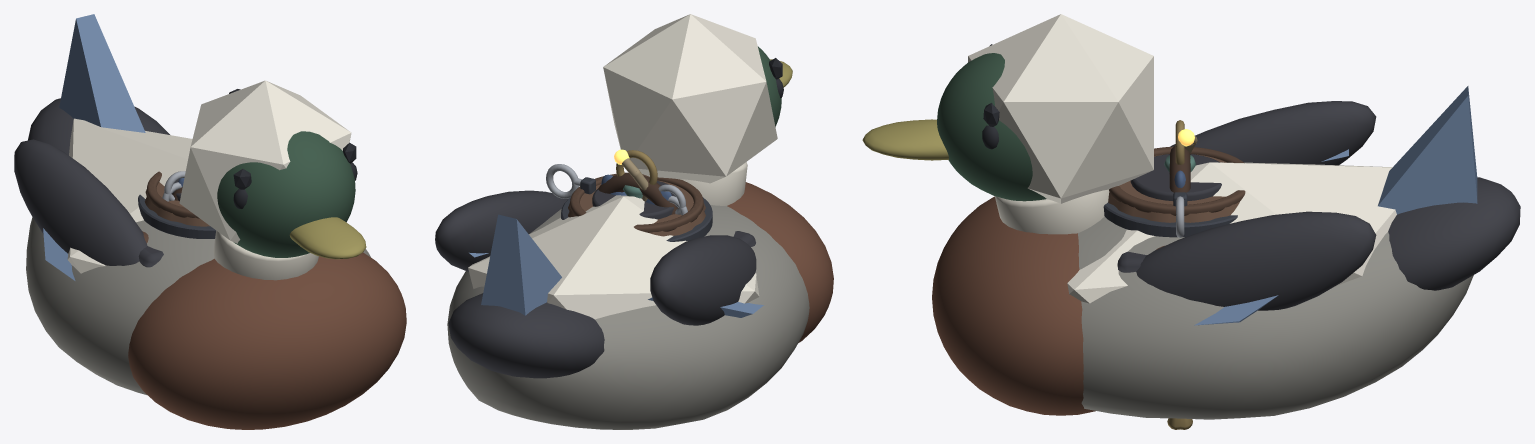
Rendered from skins_v1.glb.
The picture shows the model from 3 angles, left to right: view 1: azimuth 30°, elevation 25°; view 2: azimuth 150°, elevation 25°; view 3: azimuth 270°, elevation 25°; orthographic projection. The views are drawn at different scales.
Visible parts, largest first — view 1: duck@decoy_breast__p6c4b3c, duck@origami_body__pe7e3d8, duck@decoy_body__p8b8a84, duck@decoy_head__p3f5a4a, duck@decoy_wings__p3c3d44, duck@origami_tail__p6f86a6, duck@decoy_neck__pdcd8cc, duck@decoy_bill__p9c935a, duck@decoy_tail__p3c3d44, frag@keg_hoops__p3b3f48, duck@origami_wings__p6f86a6, frag@keg_lid__p574337 (+3 smaller); view 2: duck@origami_body__pe7e3d8, duck@decoy_body__p8b8a84, duck@decoy_wings__p3c3d44, duck@decoy_tail__p3c3d44, duck@decoy_breast__p6c4b3c, duck@origami_tail__p6f86a6, frag@keg_lid__p574337, duck@decoy_neck__pdcd8cc, frag@keg_body__p6b5344, medkit@doctorbag_lidhandle__p47362d, frag@keg_hoops__p3b3f48, frag@lantern_caps__p3a3b42 (+5 smaller); view 3: duck@decoy_body__p8b8a84, duck@origami_body__pe7e3d8, duck@decoy_wings__p3c3d44, duck@decoy_breast__p6c4b3c, duck@decoy_tail__p3c3d44, duck@decoy_head__p3f5a4a, duck@origami_tail__p6f86a6, duck@decoy_neck__pdcd8cc, duck@decoy_bill__p9c935a, frag@keg_lid__p574337, frag@lantern_caps__p3a3b42, frag@keg_hoops__p3b3f48 (+3 smaller).
Boxes of the visible parts, x1,y1,x2,y2 form: duck@decoy_breast__p6c4b3c: [128, 252, 406, 429]; duck@origami_body__pe7e3d8: [67, 80, 351, 273]; duck@decoy_body__p8b8a84: [26, 217, 370, 395]; duck@decoy_head__p3f5a4a: [217, 131, 355, 257]; duck@decoy_wings__p3c3d44: [14, 89, 240, 265]; duck@origami_tail__p6f86a6: [59, 14, 145, 132]; duck@decoy_neck__pdcd8cc: [213, 230, 318, 280]; duck@decoy_bill__p9c935a: [289, 217, 366, 259]; duck@decoy_tail__p3c3d44: [28, 98, 169, 155]; frag@keg_hoops__p3b3f48: [138, 194, 215, 238]; duck@origami_wings__p6f86a6: [43, 228, 75, 280]; frag@keg_lid__p574337: [147, 171, 199, 218]; duck@origami_body__pe7e3d8: [468, 14, 777, 319]; duck@decoy_body__p8b8a84: [447, 204, 809, 429]; duck@decoy_wings__p3c3d44: [435, 190, 756, 325]; duck@decoy_tail__p3c3d44: [448, 293, 604, 378]; duck@decoy_breast__p6c4b3c: [727, 182, 833, 342]; duck@origami_tail__p6f86a6: [481, 214, 561, 315]; frag@keg_lid__p574337: [570, 172, 703, 232]; duck@decoy_neck__pdcd8cc: [678, 162, 747, 205]; frag@keg_body__p6b5344: [568, 180, 705, 236]; medkit@doctorbag_lidhandle__p47362d: [598, 173, 677, 214]; frag@keg_hoops__p3b3f48: [561, 197, 712, 241]; frag@lantern_caps__p3a3b42: [592, 181, 677, 219]; duck@decoy_body__p8b8a84: [1078, 216, 1473, 419]; duck@origami_body__pe7e3d8: [968, 14, 1396, 303]; duck@decoy_wings__p3c3d44: [1136, 101, 1376, 310]; duck@decoy_breast__p6c4b3c: [932, 196, 1095, 415]; duck@decoy_tail__p3c3d44: [1388, 177, 1520, 290]; duck@decoy_head__p3f5a4a: [937, 53, 1046, 201]; duck@origami_tail__p6f86a6: [1378, 86, 1477, 214]; duck@decoy_neck__pdcd8cc: [994, 189, 1109, 234]; duck@decoy_bill__p9c935a: [862, 119, 948, 160]; frag@keg_lid__p574337: [1109, 146, 1245, 215]; frag@lantern_caps__p3a3b42: [1130, 154, 1221, 200]; frag@keg_hoops__p3b3f48: [1103, 202, 1237, 237].
Size of the model in its own units: 3.8 by 4.57 by 6.63.
